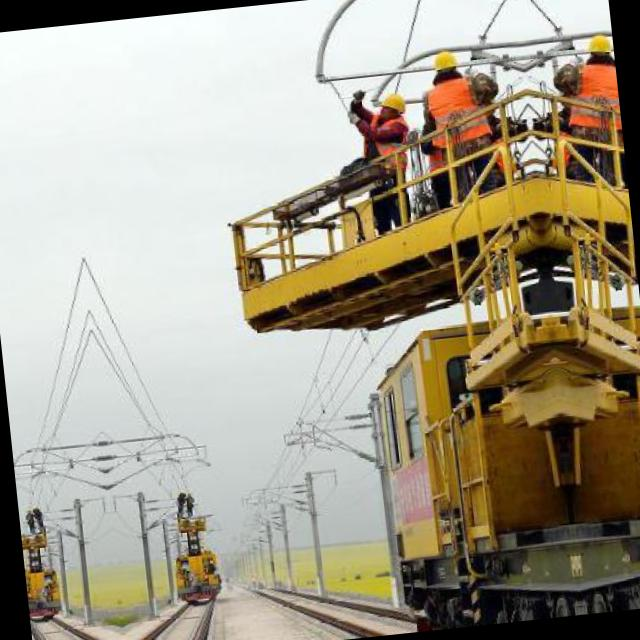helmet: (426, 48, 466, 86), (372, 88, 414, 122), (578, 33, 612, 72)
